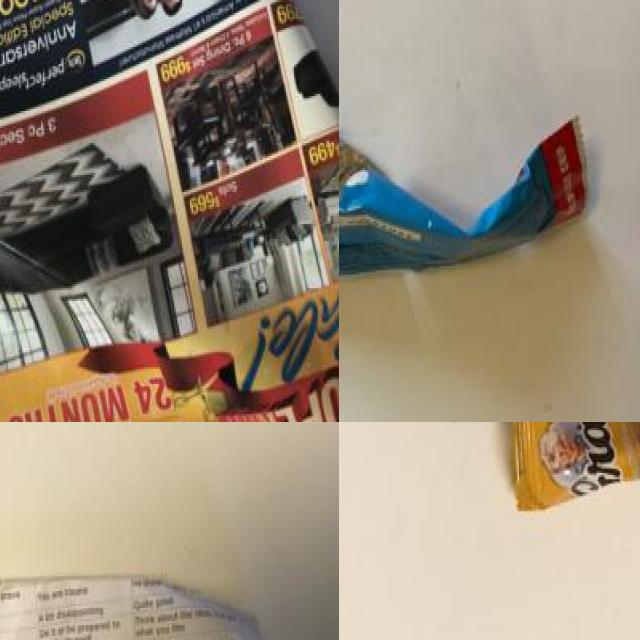paper: (0, 0, 339, 422), (0, 567, 287, 640)
trash: (339, 79, 596, 302), (487, 422, 640, 533)
